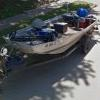Boat: (11, 8, 100, 62)
